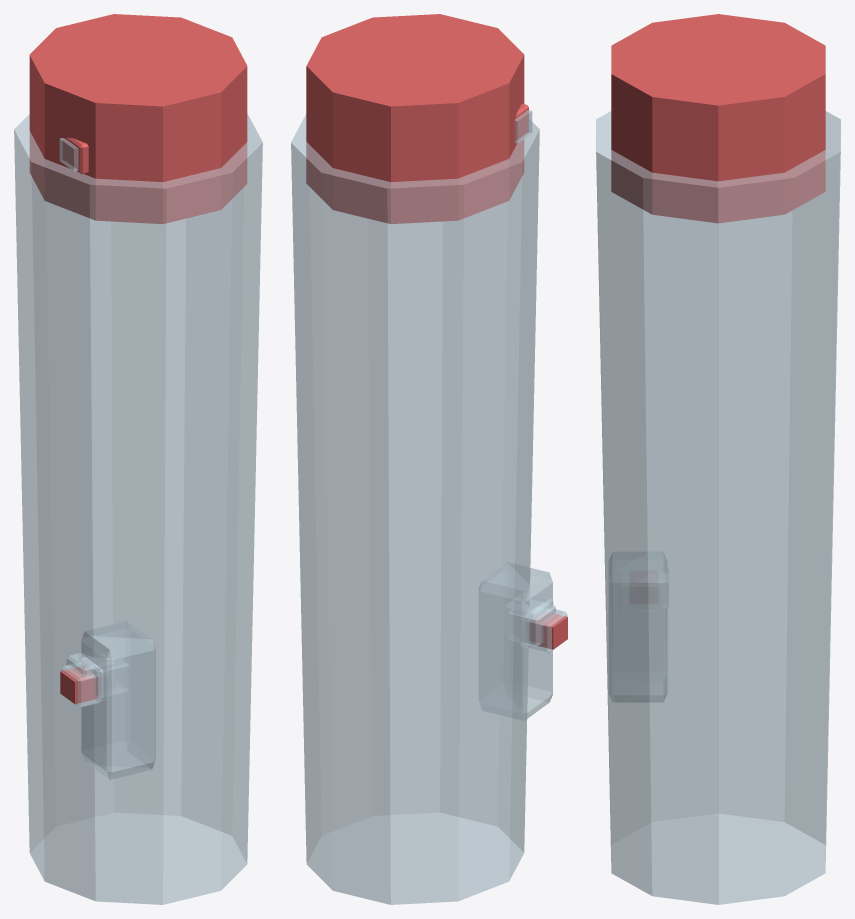
Rendered from b16_longneck_glass_bottle.glb.
The picture shows the model from 3 angles, left to right: view 1: azimuth 30°, elevation 25°; view 2: azimuth 150°, elevation 25°; view 3: azimuth 270°, elevation 25°; orthographic projection.
Parts seen in each view (by area): view 1: b16_longneck_glass_bottle; view 2: b16_longneck_glass_bottle; view 3: b16_longneck_glass_bottle.
Part boxes in pixels (x1,y1,x2,y2): b16_longneck_glass_bottle: [14, 14, 262, 904]; b16_longneck_glass_bottle: [291, 14, 567, 904]; b16_longneck_glass_bottle: [596, 14, 840, 904].
Bounding box in the file's own units: 0.064 × 0.227 × 0.063.
